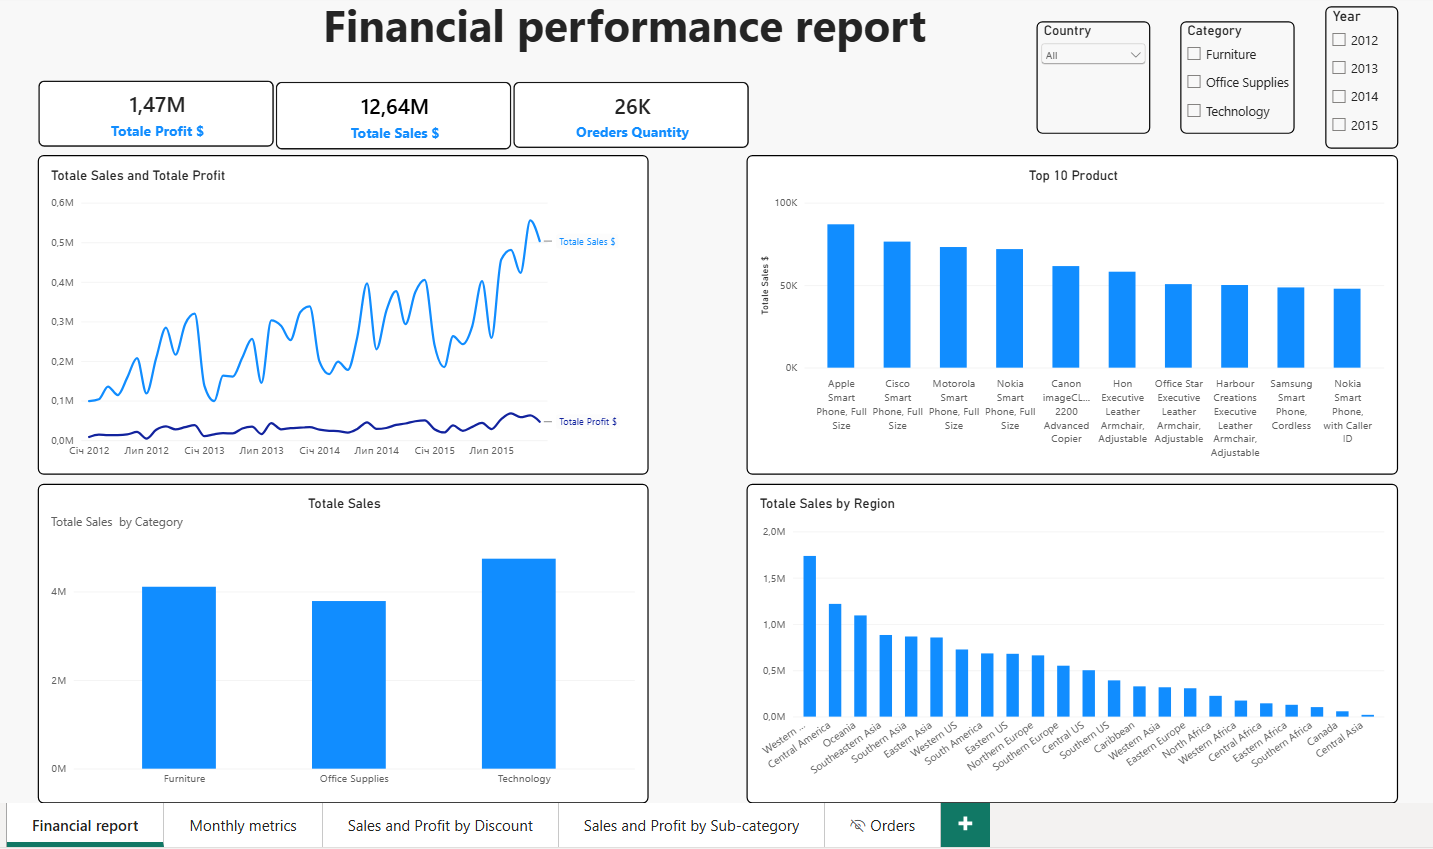

The page's visual inventory and layout, read from the dashboard file:
{"tool":"powerbi","page":{"name":"Financial report","canvas":[1920,1080],"ordinal":0},"visuals":[{"type":"lineChart","title":"Totale Sales and Totale Profit ","fields":{"Y":["_measures.Totale Sales $","_measures.Totale Profit $"],"Category":["DimDate.Date.Variation.Date Hierarchy.Year","DimDate.Date.Variation.Date Hierarchy.Quarter","DimDate.Date.Variation.Date Hierarchy.Month","DimDate.Date.Variation.Date Hierarchy.Day"]},"box":[52.5,213.5,816.2,427.1],"z":0},{"type":"clusteredColumnChart","title":"Top 10 Product ","fields":{"Category":["dimProduct.Product Name"],"Y":["_measures.Totale Sales $"]},"box":[998.9,213.5,870.4,427.1],"z":1000},{"type":"clusteredColumnChart","title":"Totale Sales ","fields":{"Category":["dimProduct.Category Hierarchy.Category","dimProduct.Category Hierarchy.Sub-Category","dimProduct.Category Hierarchy.Product Name"],"Y":["_measures.Totale Sales $"]},"box":[52.5,653.3,816,427],"z":2000},{"type":"clusteredColumnChart","title":"Totale Sales by Region","fields":{"Y":["_measures.Totale Sales $"],"Category":["dimAdress.Region"]},"box":[998.9,653.3,870.4,427.1],"z":3000},{"type":"cardVisual","fields":{"Data":["_measures.Totale Sales $"]},"box":[369.2,115.8,316.7,92.3],"z":4000},{"type":"cardVisual","fields":{"Data":["_measures.Totale Profit $"]},"box":[52.5,114,316.7,90.5],"z":5000},{"type":"cardVisual","fields":{"Data":["_measures.Oreders Quantity"]},"box":[685.9,115.8,316.7,90.5],"z":6000},{"type":"slicer","fields":{"Values":["DimDate.Date.Variation.Date Hierarchy.Year"]},"box":[1771.7,14.5,97.7,190],"z":7000},{"type":"slicer","fields":{"Values":["dimProduct.Category"]},"box":[1578,34.4,153,150],"z":8000},{"type":"slicer","fields":{"Values":["dimAdress.Country"]},"box":[1385.3,35,152.3,150.3],"z":9000},{"type":"textbox","box":[52.5,0,1331.9,90.5],"z":10000}]}

Visuals, with their boxes on the page's 1920x1080 design canvas (x1, y1, x2, y2). These are canvas units, not pixel positions in the 1433x849 screenshot, which may show the page scaled, cropped or inside an application window:
"Totale Sales and Totale Profit " lineChart: [left=52, top=214, right=869, bottom=641]
"Top 10 Product " clusteredColumnChart: [left=999, top=214, right=1869, bottom=641]
"Totale Sales " clusteredColumnChart: [left=52, top=653, right=868, bottom=1080]
"Totale Sales by Region" clusteredColumnChart: [left=999, top=653, right=1869, bottom=1080]
cardVisual - _measures.Totale Sales $: [left=369, top=116, right=686, bottom=208]
cardVisual - _measures.Totale Profit $: [left=52, top=114, right=369, bottom=204]
cardVisual - _measures.Oreders Quantity: [left=686, top=116, right=1003, bottom=206]
slicer - DimDate.Date.Variation.Date Hierarchy.Year: [left=1772, top=14, right=1869, bottom=204]
slicer - dimProduct.Category: [left=1578, top=34, right=1731, bottom=184]
slicer - dimAdress.Country: [left=1385, top=35, right=1538, bottom=185]
textbox: [left=52, top=0, right=1384, bottom=90]
